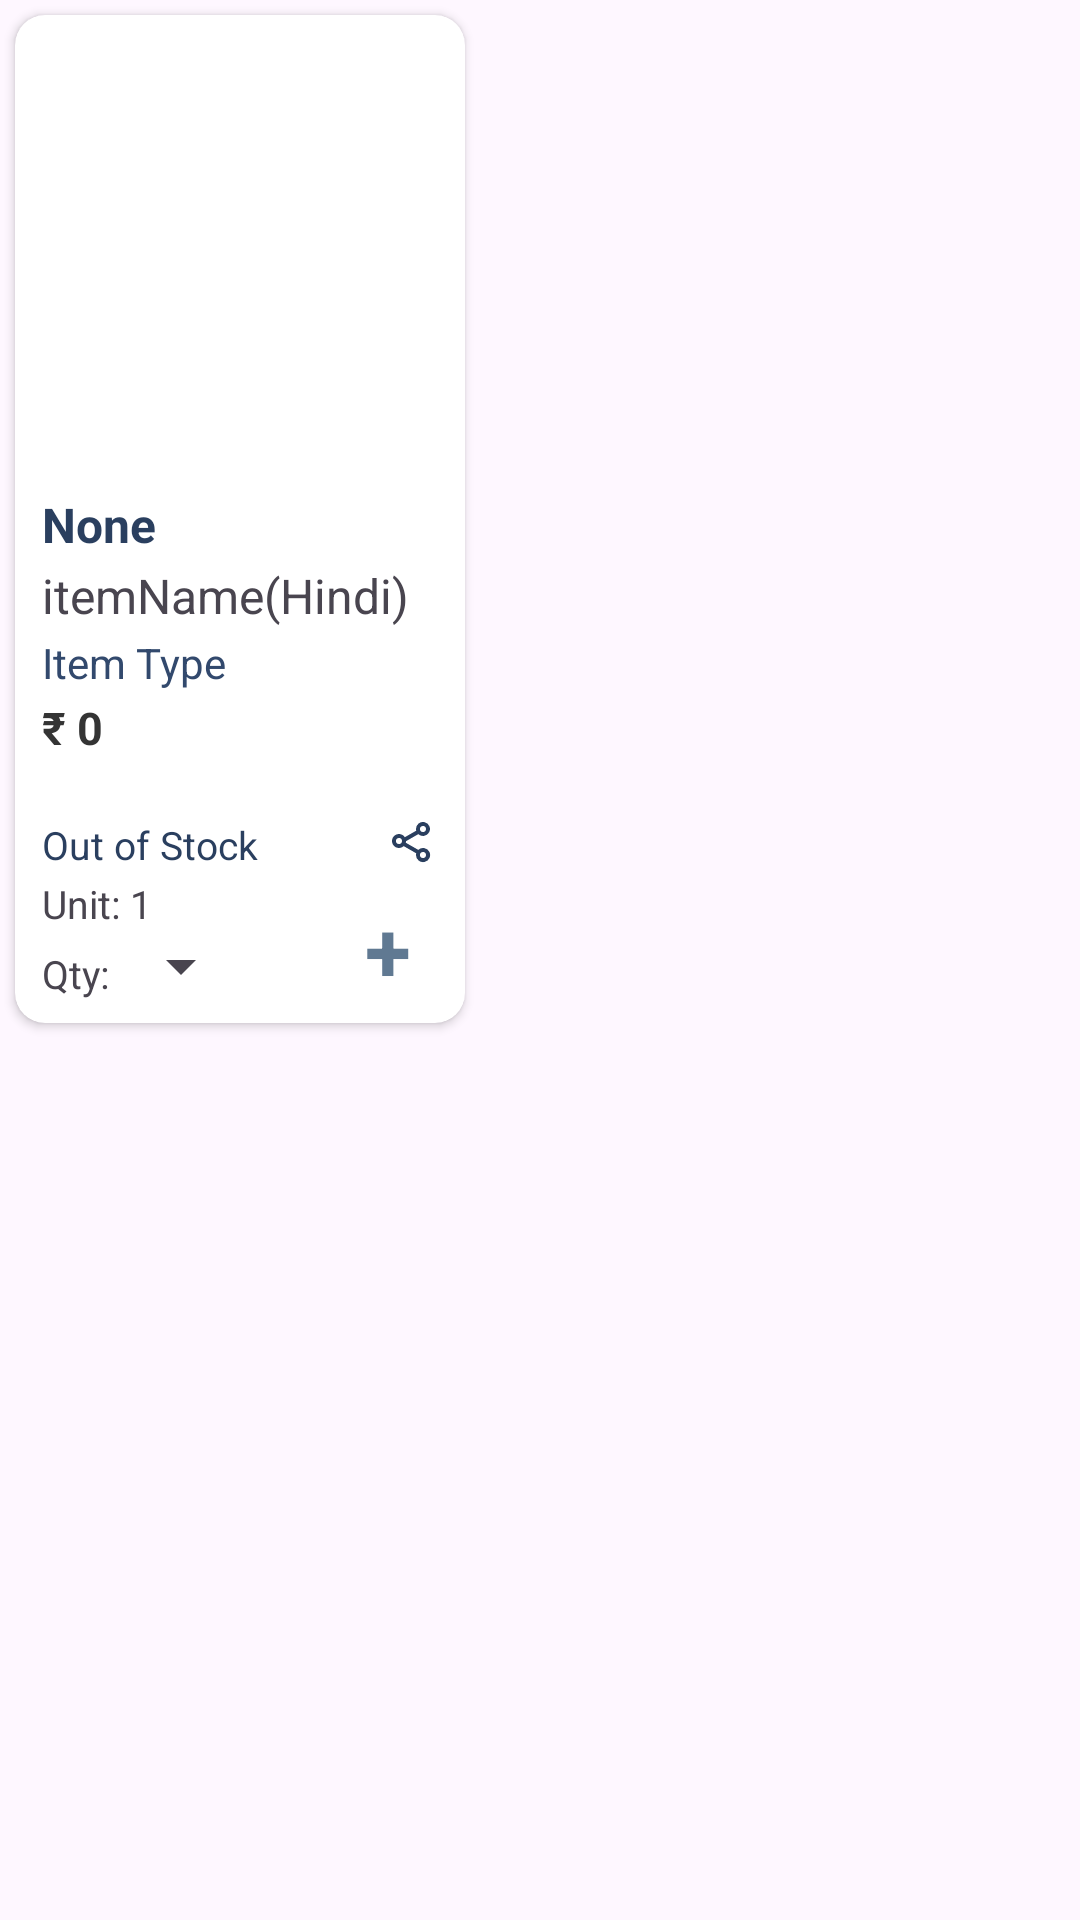

Icons on this 1080 x 1920 Android screen, each with the point to tap as [x,y]:
Share: [411,842]
